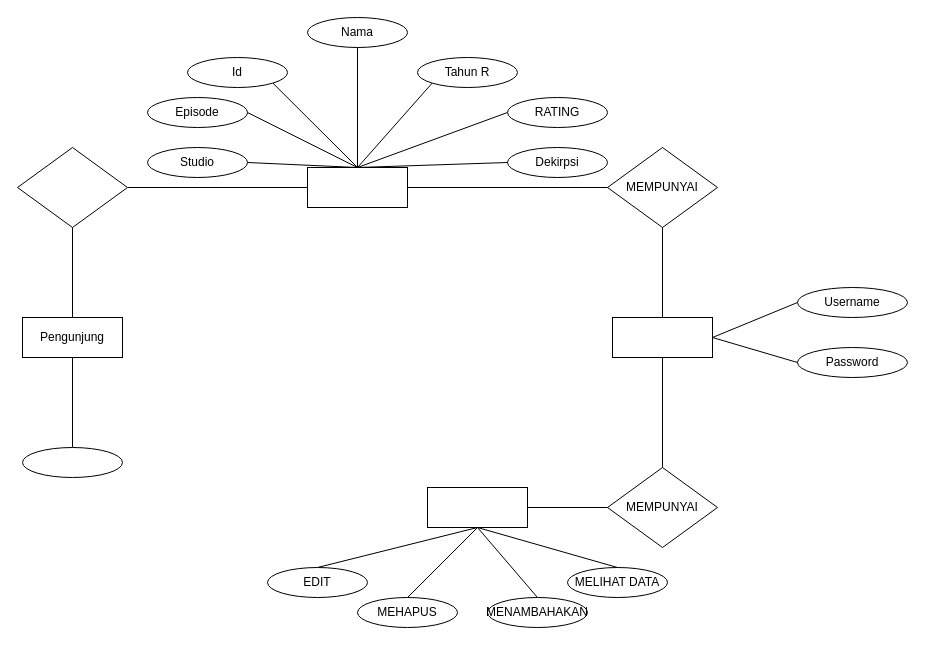
The diagram is 925 pixels wide and 645 high, and some of its shapes have lost their labels. The shapes that lost their labels are listed below. From the top down, each one's centre as x and y in pixels, then its label:
At (x=72, y=187): "MELAKUKAN".
At (x=357, y=187): "KOMIK / ANIME".
At (x=662, y=337): "ADMIN".
At (x=72, y=462): "Melihat / membaca".
At (x=477, y=507): "DATA".
